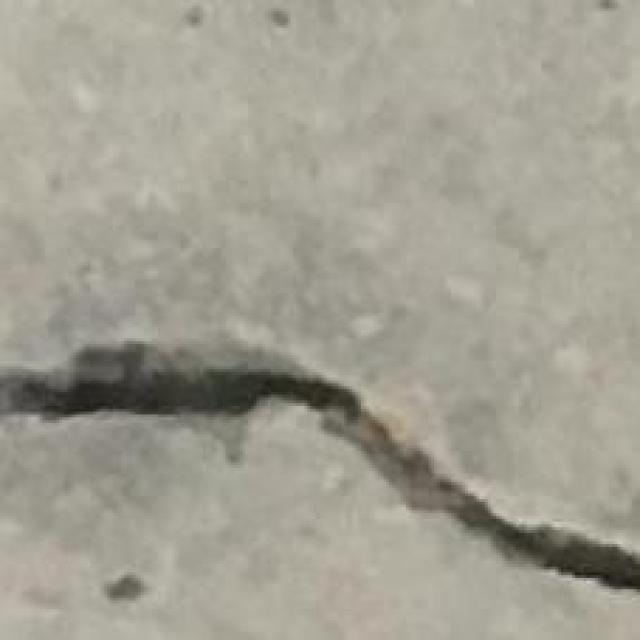curved crack: (0, 363, 639, 591)
